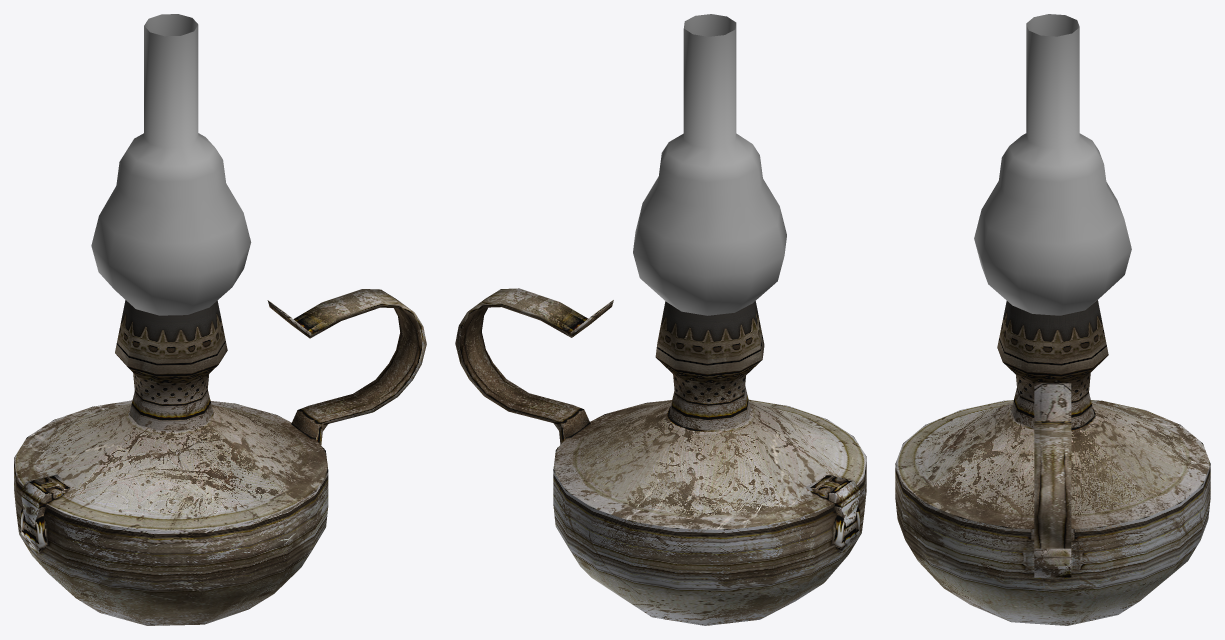
Rendered from lamps_ALL_export.fbx.
The picture shows the model from 3 angles, left to right: view 1: azimuth 30°, elevation 25°; view 2: azimuth 150°, elevation 25°; view 3: azimuth 270°, elevation 25°; orthographic projection.
Visible parts, largest first — view 1: lamp_3; view 2: lamp_3; view 3: lamp_3.
Part boxes in pixels (x1=…): lamp_3: x1=14, y1=14, x2=426, y2=625; lamp_3: x1=455, y1=14, x2=866, y2=625; lamp_3: x1=895, y1=14, x2=1210, y2=625.
Size of the model in its own units: 1529 by 2122 by 1079.
